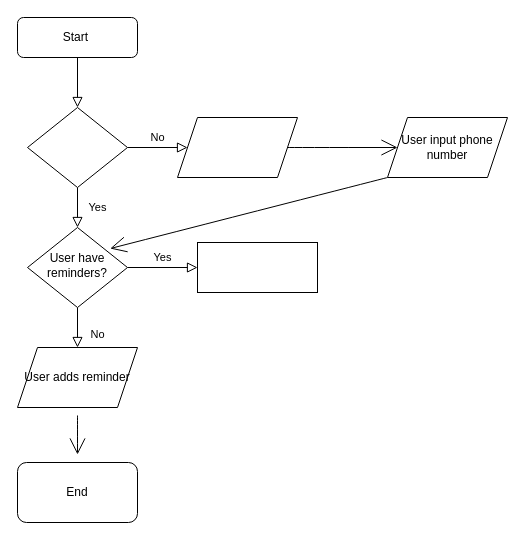
This 525x540 diagram has some shape labels left out. The centre of each missing label's shape, as x and y in pixels:
"Show reminders (table creator)" belongs at (257,267).
"User inputs name" belongs at (237,147).
"User logged in?" belongs at (77,147).
